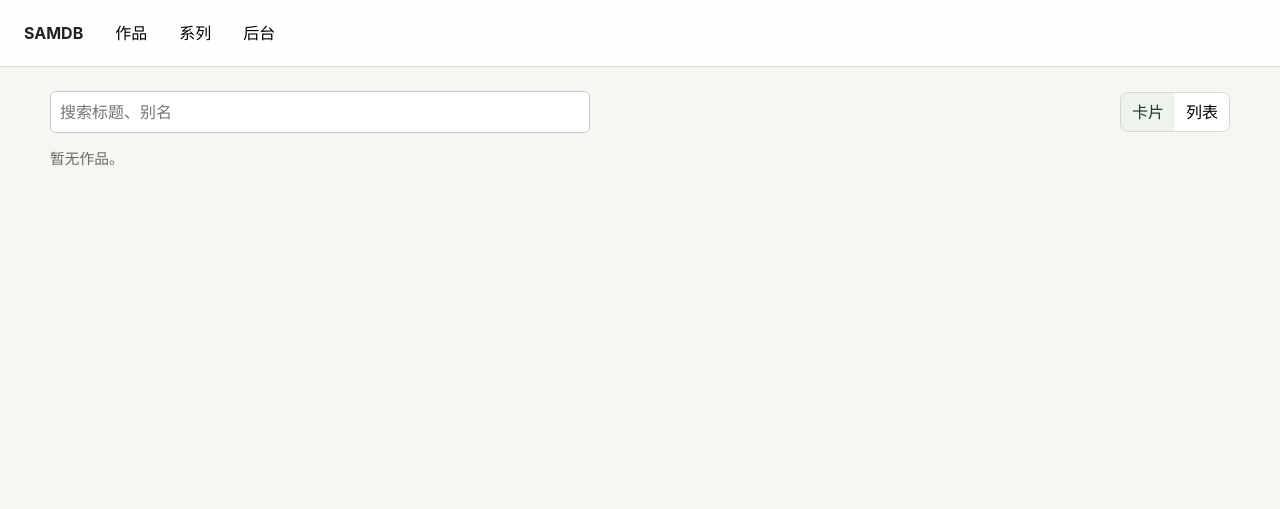
Test case: App auth flow › opens owner bootstrap when admin is selected before any user exists
Click the button "后台". click: (259, 33)
box: 231,13 -> 287,53
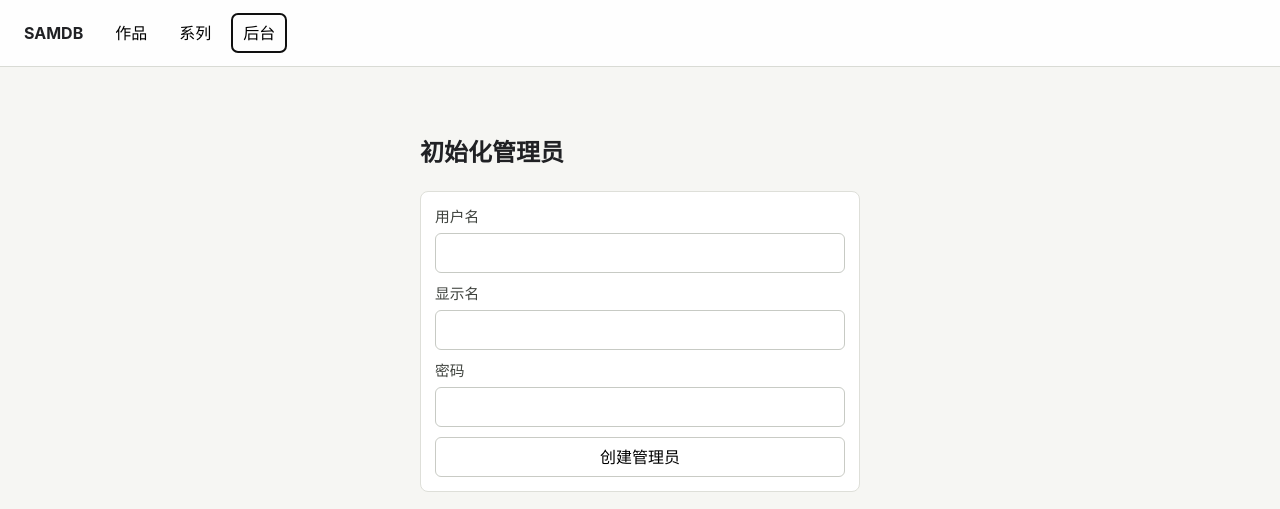
expect the field labelled "用户名" is shown: met, box 435,233 -> 845,273
expect the heading "初始化管理员" is shown: met, box 420,138 -> 564,167
